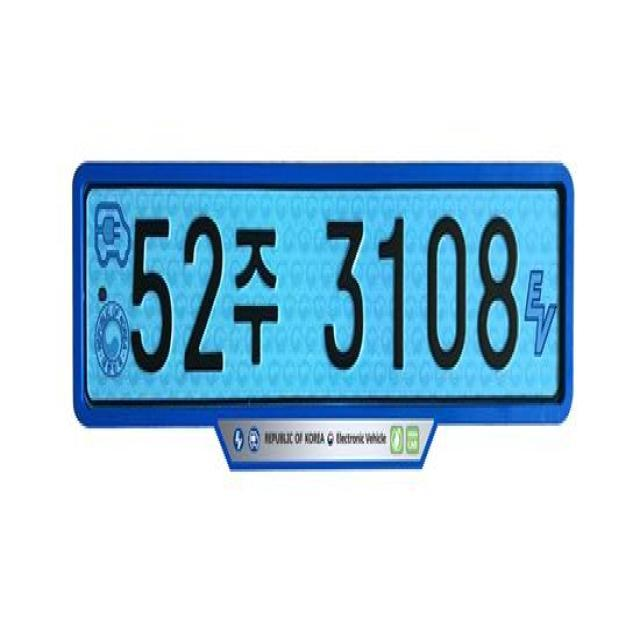car: (56, 127, 597, 510)
carev: (86, 183, 134, 402), (517, 189, 564, 405)
